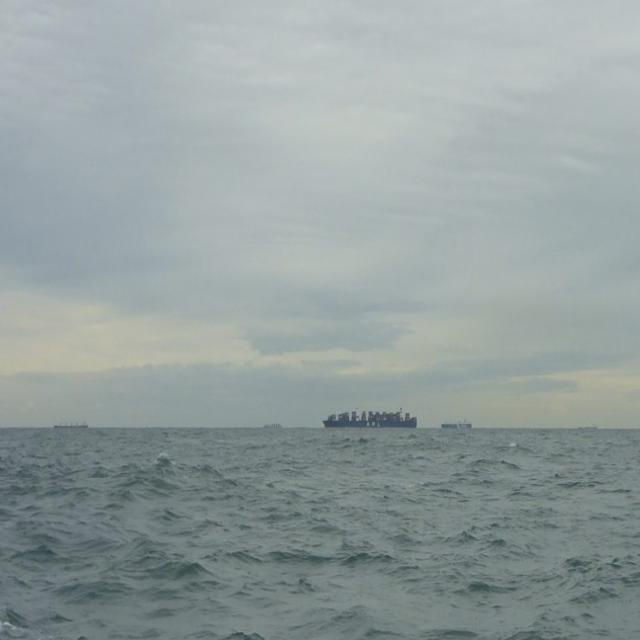cargoship: (322, 403, 418, 431)
